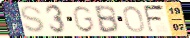3: (45, 3, 67, 36)
B: (93, 4, 120, 34)
F: (142, 4, 167, 35)
G: (71, 5, 96, 34)
O: (122, 5, 146, 33)
S: (20, 5, 46, 34)
